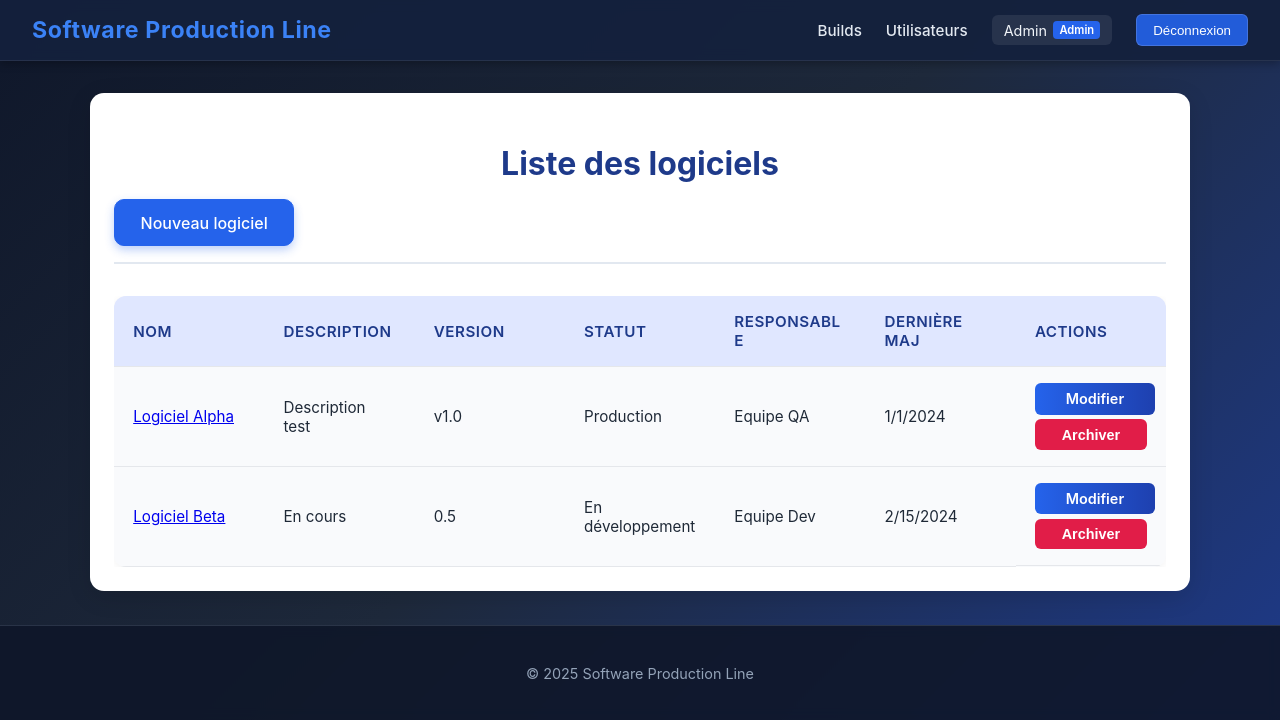
Test case: Build management › affiche la liste des builds et permet l'archivage
Expected: the text "Logiciel Beta" is shown, [114, 467, 264, 566]
Click the button "Archiver" in the row of "Logiciel Beta": (1091, 534) [1035, 519, 1147, 549]
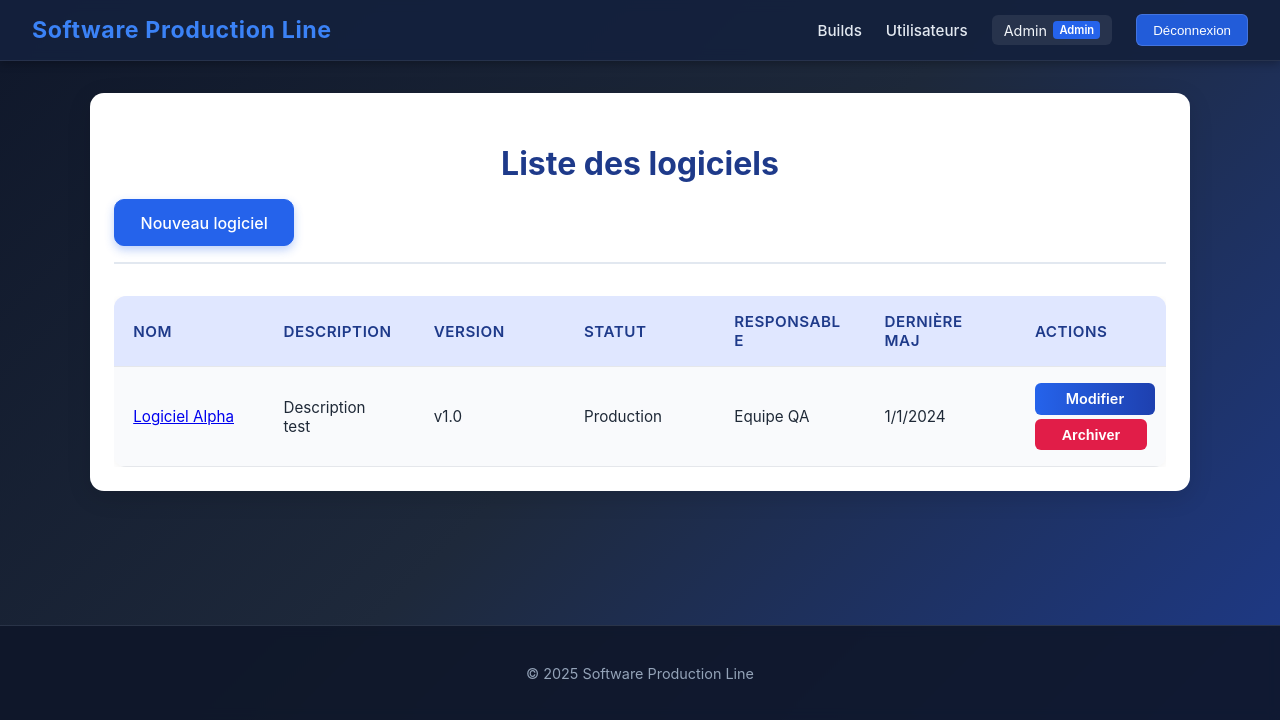
Result: the link "Logiciel Beta" is gone
